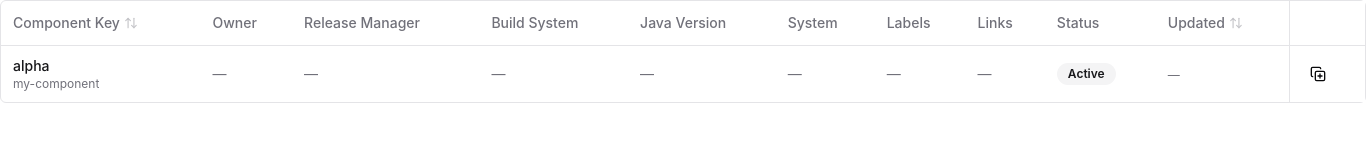
Test: ComponentTable — per-row Clone action › exposes the Clone tooltip text on hover (Clone <key> into a new component)
Hover over the button named "Clone alpha into a new component" at {"x": 1318, "y": 74}, box [1302, 58, 1334, 90]
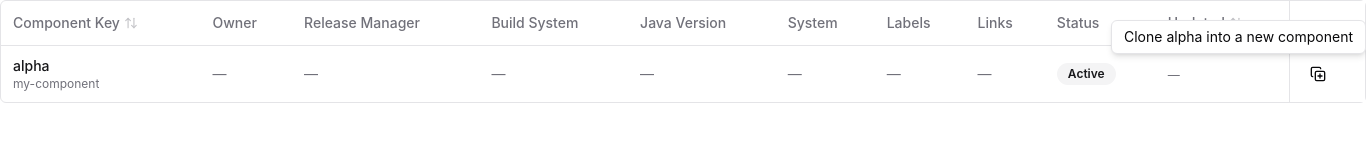
Now the tooltip "Clone alpha into a new component" is shown, box [1111, 20, 1365, 54]
